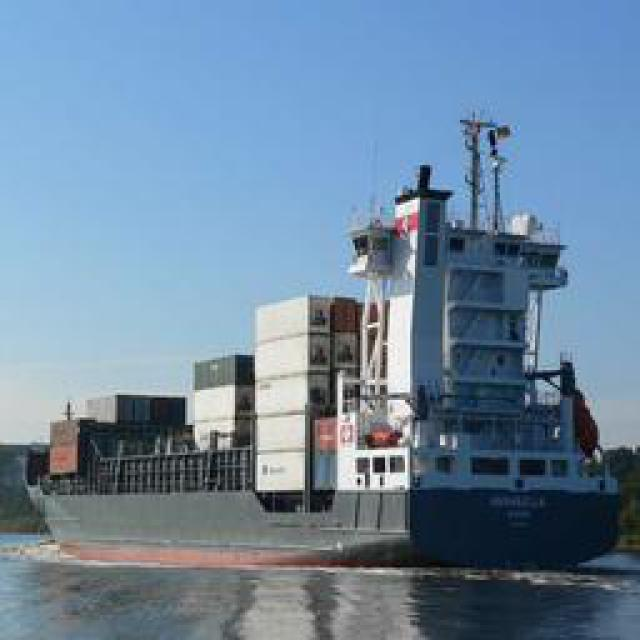Ship: (20, 76, 611, 589)
